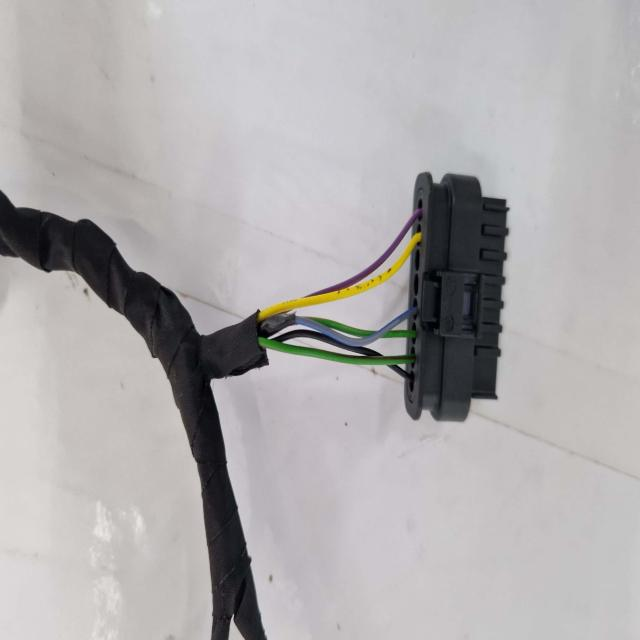Connector: (403, 176, 508, 429)
Gape: (244, 210, 414, 386)
MHEV_N11_Cable: (13, 198, 268, 640)
